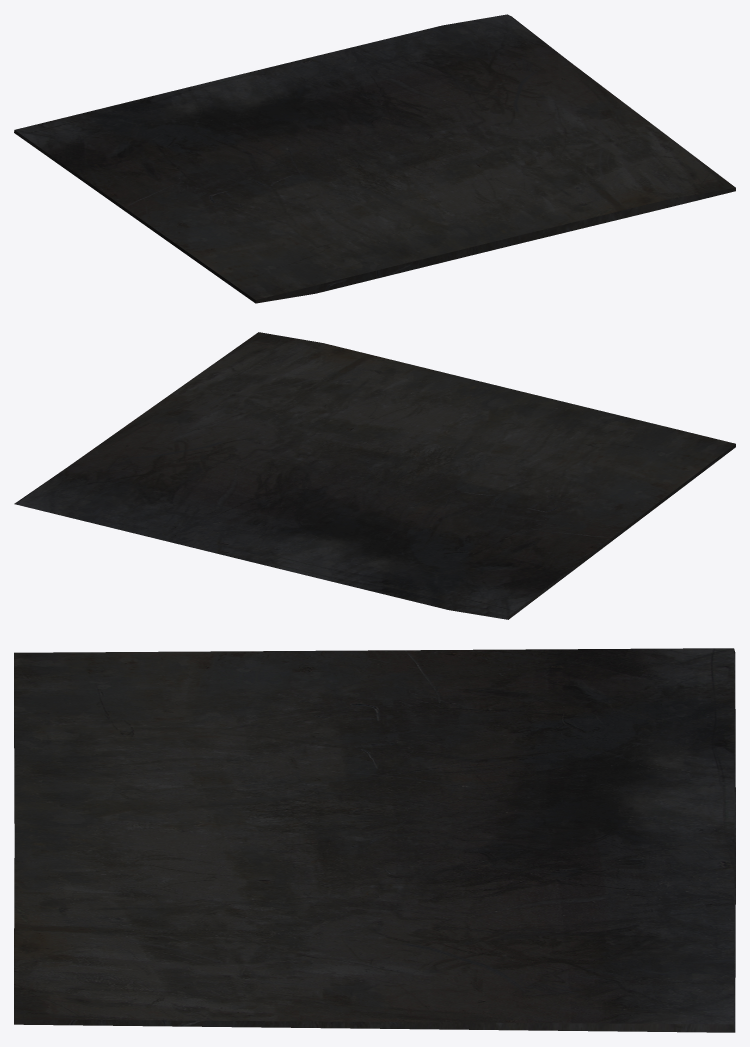
The model's file is SubwayRoof.fbx.
3 renders of one model, top to bottom at view 1: azimuth 30°, elevation 25°; view 2: azimuth 150°, elevation 25°; view 3: azimuth 270°, elevation 25°, orthographic. The views are drawn at different scales.
Visible parts, largest first — view 1: Roof + Floor (1st).002; view 2: Roof + Floor (1st).002; view 3: Roof + Floor (1st).002.
Part boxes in pixels (x1,y1,x2,y2): Roof + Floor (1st).002: (14,14,735,303); Roof + Floor (1st).002: (14,332,735,619); Roof + Floor (1st).002: (14,648,735,1032).
Bounding box in the file's own units: 5527 × 88.54 × 4532.
